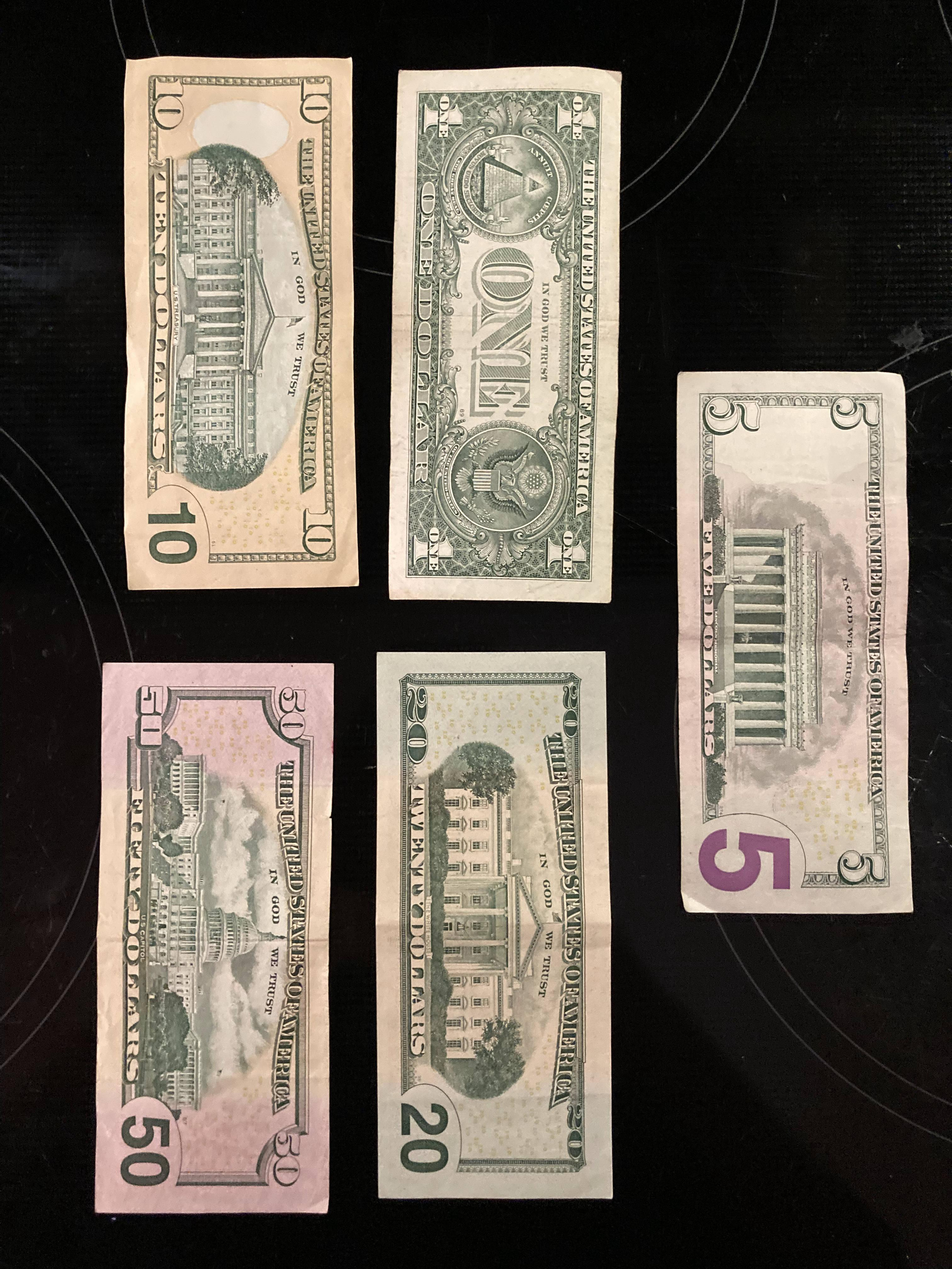fifty-back: (92, 661, 337, 1214)
five-back: (673, 370, 914, 916)
one-back: (386, 67, 622, 601)
ten-back: (125, 55, 358, 595)
twenty-back: (374, 648, 615, 1201)
